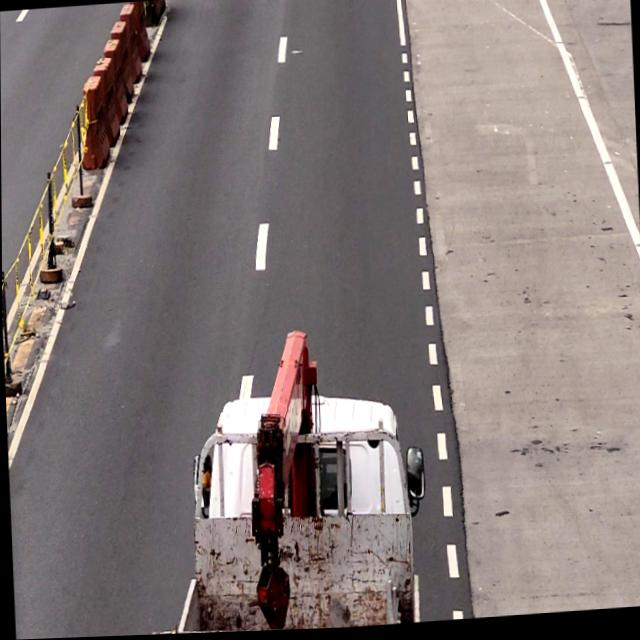Truck: (178, 378, 411, 635)
